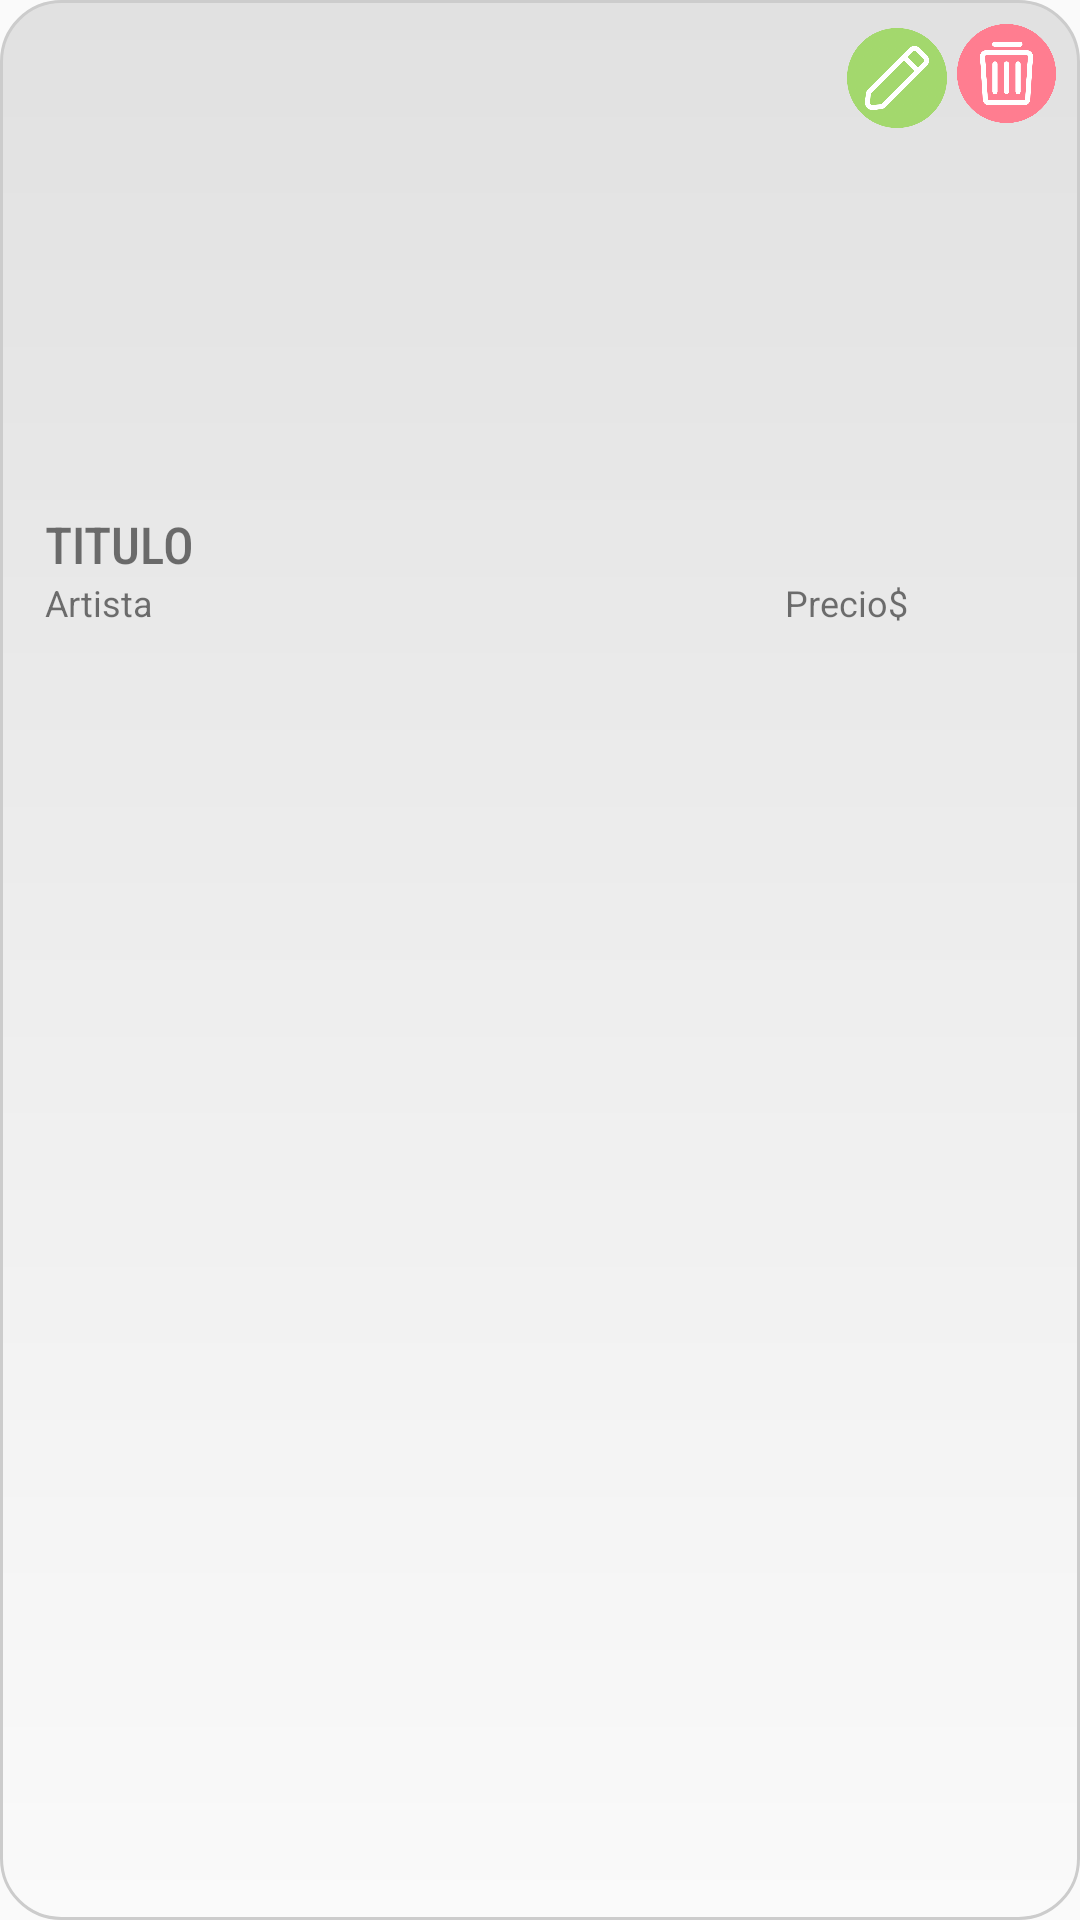

Locate icon controls on the screen. Image size 1080x1920, boxes as box=[x1, y1, x2, y2].
delete: box=[957, 24, 1056, 123]
